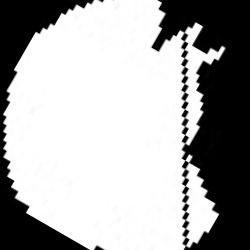spot: (3, 3, 224, 248)
